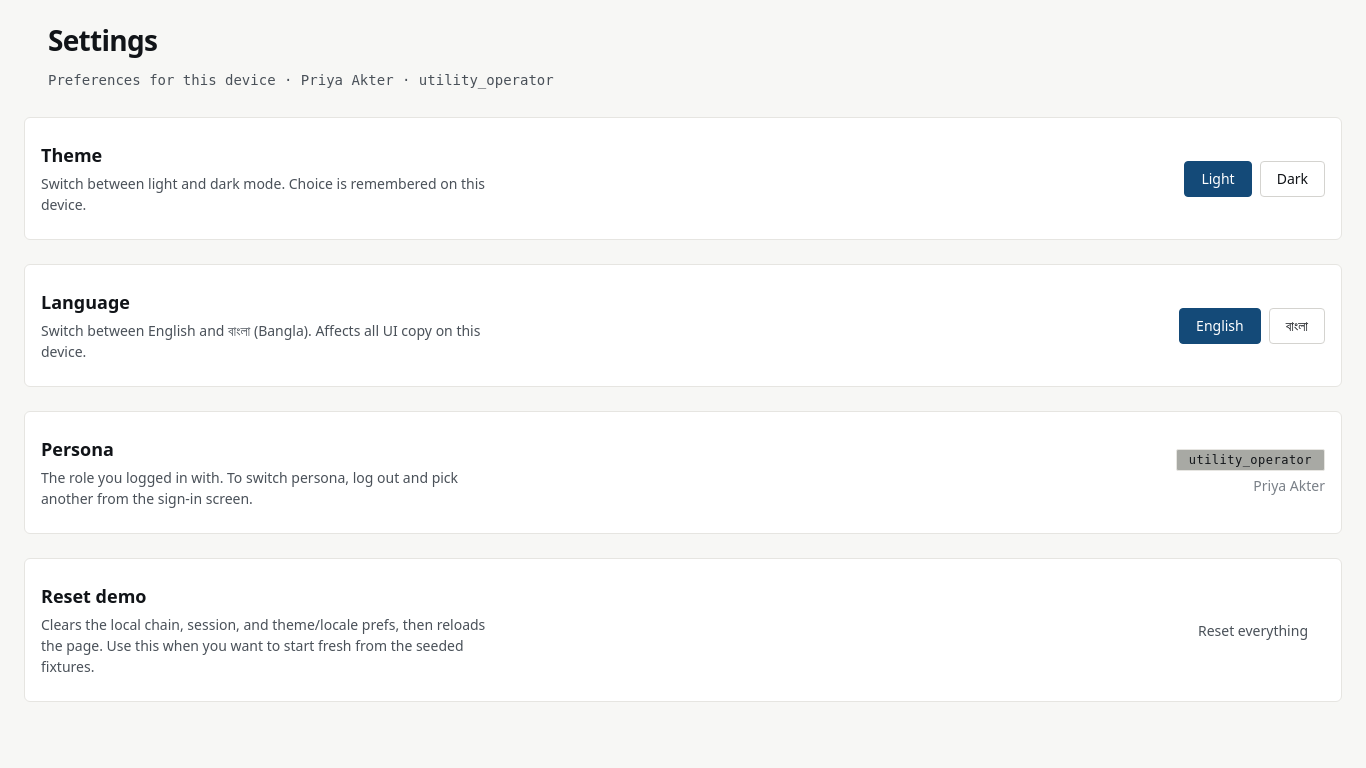
WO-014 Settings Page reconciliation › (5a) Reset button is variant="ghost" + opens confirmation modal
Click the button with test id "settings-reset-button".
click(1253, 630)  # box top-left (1181, 612), bottom-right (1325, 648)
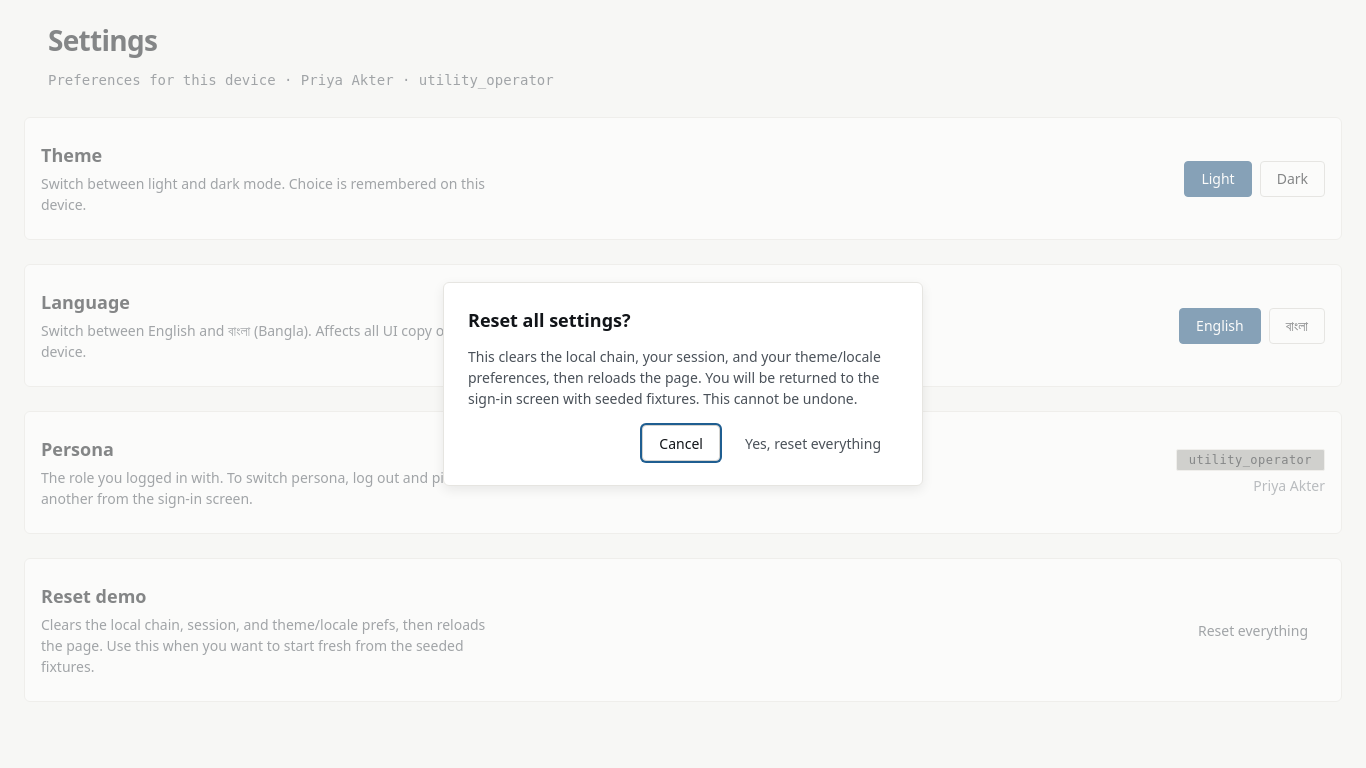
Check: the element with test id "settings-reset-confirm-modal" is shown
Check: the element with test id "settings-reset-confirm-modal" shows "Reset all settings?", box top-left (468, 308), bottom-right (631, 332)
Check: the element with test id "settings-reset-confirm-modal" shows "cannot be undone", box top-left (468, 347), bottom-right (881, 408)
